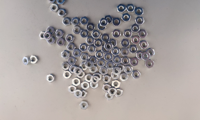nut: (135, 7, 144, 17), (112, 18, 122, 27), (131, 24, 140, 34), (138, 30, 148, 39), (123, 30, 133, 39), (145, 60, 155, 69), (131, 71, 141, 80), (108, 87, 118, 96), (80, 53, 90, 62), (79, 89, 88, 99), (117, 4, 126, 13), (122, 14, 131, 23), (112, 30, 121, 39), (121, 39, 130, 48), (142, 52, 151, 61), (130, 58, 139, 67), (122, 57, 131, 66), (124, 66, 133, 75), (113, 56, 122, 65), (80, 101, 89, 110), (111, 71, 120, 80), (114, 89, 123, 98), (103, 84, 112, 93), (47, 74, 56, 83), (58, 9, 67, 18), (71, 17, 80, 26), (80, 17, 89, 26), (47, 36, 56, 45), (57, 38, 66, 47), (100, 18, 109, 27), (94, 39, 103, 48), (106, 61, 115, 70), (97, 59, 106, 68), (95, 51, 104, 60), (73, 49, 82, 58), (85, 60, 94, 69), (89, 56, 98, 65), (89, 65, 98, 74), (90, 81, 99, 90), (74, 90, 83, 99), (81, 82, 90, 91), (72, 78, 81, 87), (135, 17, 145, 25), (139, 41, 149, 49), (129, 46, 139, 54), (50, 4, 60, 12), (104, 43, 114, 51), (100, 66, 108, 76), (132, 36, 140, 45), (146, 49, 155, 57), (121, 49, 130, 57), (120, 74, 129, 82), (116, 65, 125, 73), (113, 67, 121, 76), (112, 81, 121, 89), (105, 93, 114, 101), (103, 75, 111, 84), (23, 57, 31, 66), (62, 18, 71, 26), (73, 27, 82, 35), (66, 35, 75, 43), (55, 30, 64, 38), (46, 27, 55, 35), (39, 32, 48, 40), (67, 43, 76, 51), (86, 24, 95, 32), (104, 16, 113, 24), (92, 31, 101, 39), (102, 34, 110, 43), (105, 53, 113, 62), (102, 45, 110, 54), (88, 45, 96, 54), (80, 30, 89, 38), (79, 44, 88, 52), (68, 57, 77, 65), (62, 62, 70, 71), (63, 71, 72, 79), (85, 74, 93, 83), (69, 86, 77, 95), (127, 5, 135, 13), (137, 52, 145, 60), (112, 48, 120, 56), (30, 56, 38, 64), (44, 32, 52, 40), (62, 51, 70, 59), (98, 23, 106, 31), (109, 39, 117, 47), (86, 37, 94, 45), (74, 68, 82, 76), (94, 73, 102, 81), (77, 71, 85, 79), (91, 77, 100, 84), (69, 66, 77, 73), (80, 63, 87, 71), (57, 0, 66, 5), (48, 0, 56, 3)
